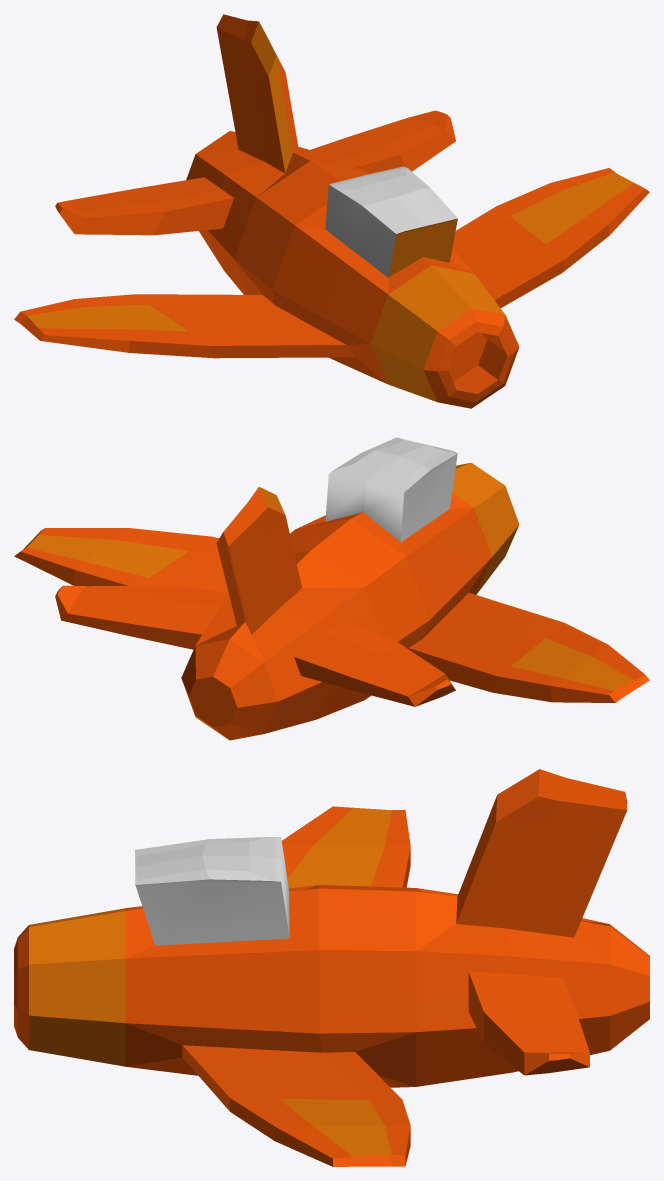
The model's file is Level1_finalplane.fbx.
3 renders of one model, top to bottom at view 1: azimuth 30°, elevation 25°; view 2: azimuth 150°, elevation 25°; view 3: azimuth 270°, elevation 25°, orthographic. The views are drawn at different scales.
Parts seen in each view (by area): view 1: Cylinder; view 2: Cylinder; view 3: Cylinder.
Part boxes in pixels (x1,y1,x2,y2): Cylinder: (14, 14, 649, 408); Cylinder: (14, 437, 649, 740); Cylinder: (14, 769, 649, 1166).
Bounding box in the file's own units: 1003 × 415 × 753.
